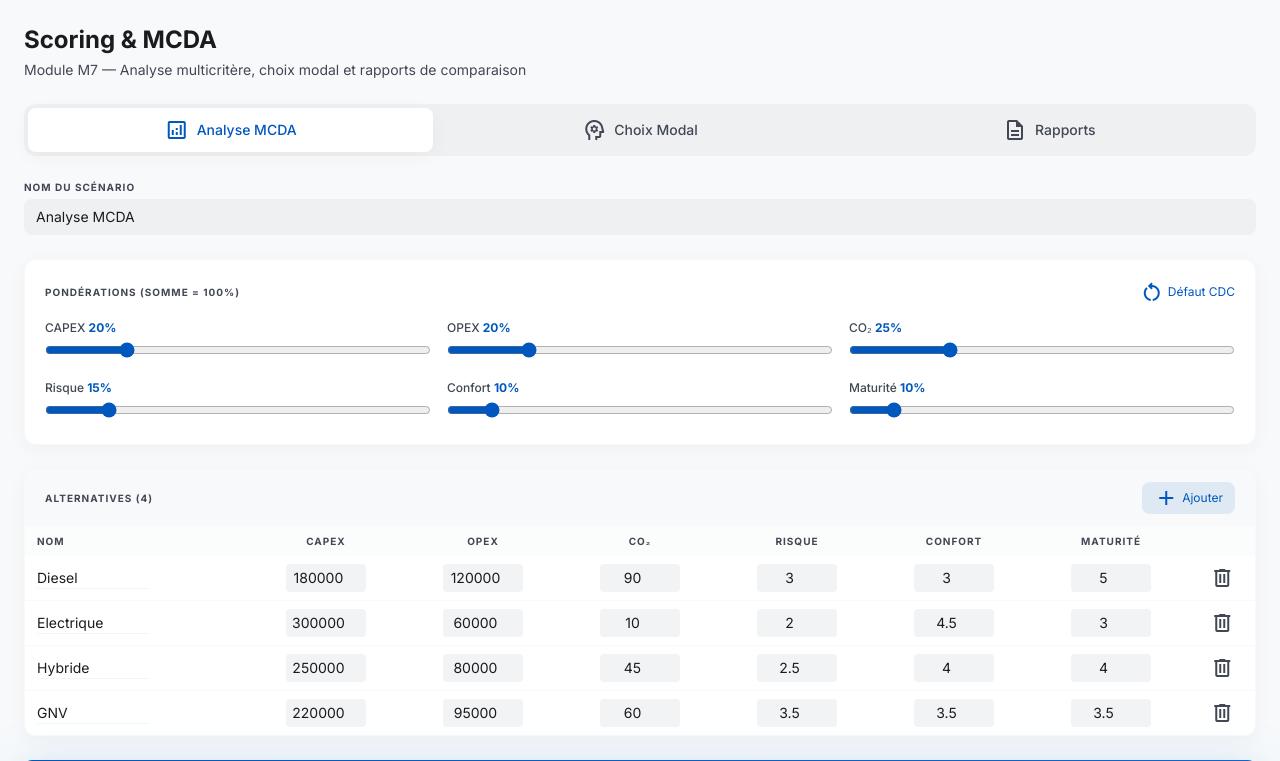
Test case: ScoringDashboardPage › switches to reports tab and shows download section
Click the button "Rapports": (1049, 130) [847,108,1252,152]
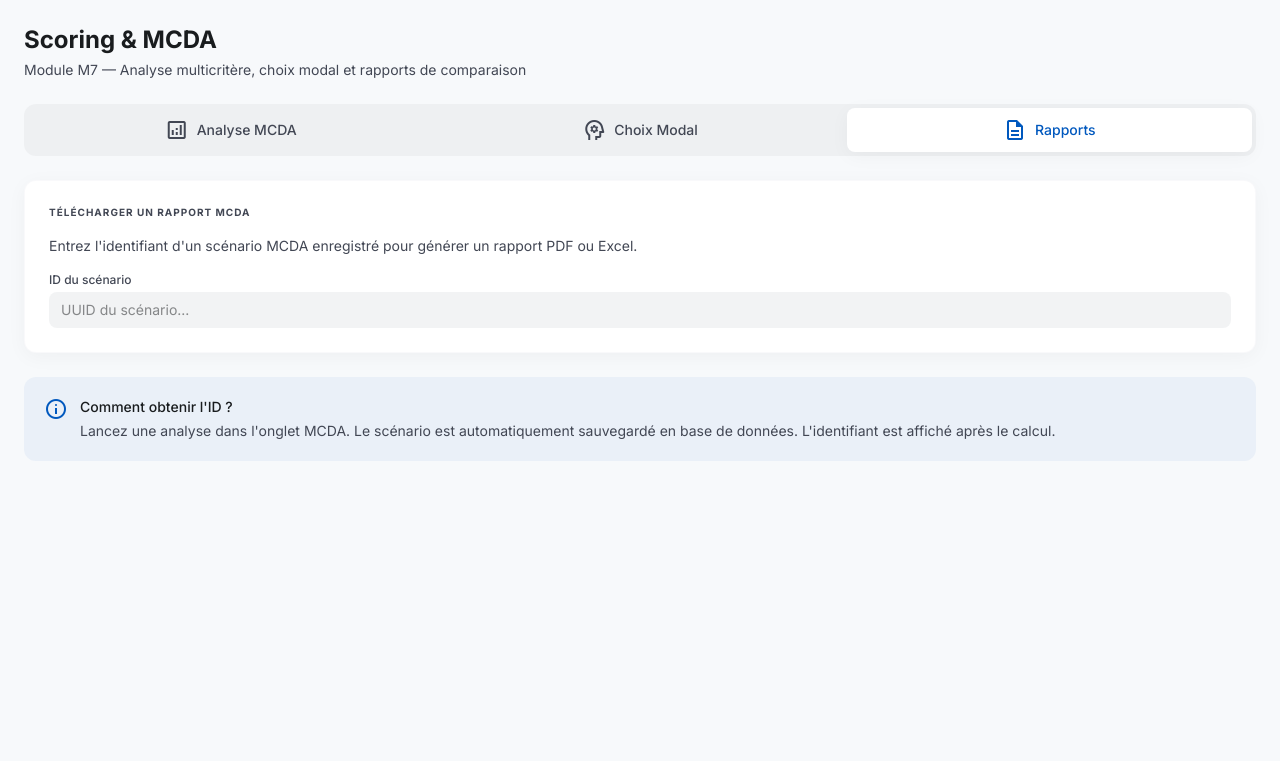
Now the heading "Télécharger un rapport MCDA" is shown, box [49,206,250,218]
Now the field with placeholder "UUID du scénario..." is shown, box [49,292,1231,328]
